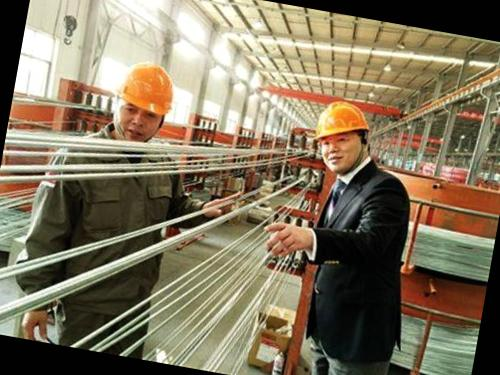person: (0, 44, 219, 362), (243, 92, 441, 375)
